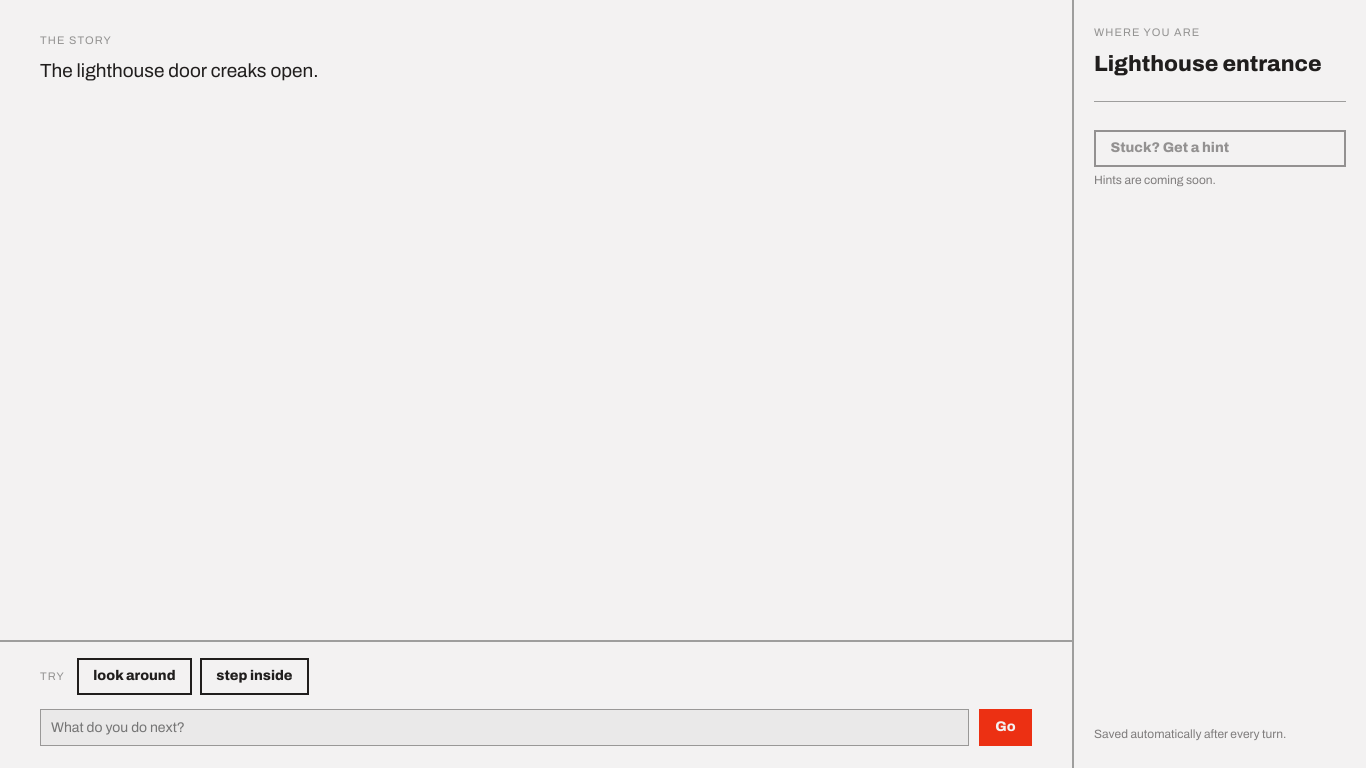
Test: PlayPage (008-core-gameplay-done) › shows an inline notice on a 429 without clearing the typed input
In the field labelled "What do you do next?": (504, 728) [40,709,969,746], type "look around"
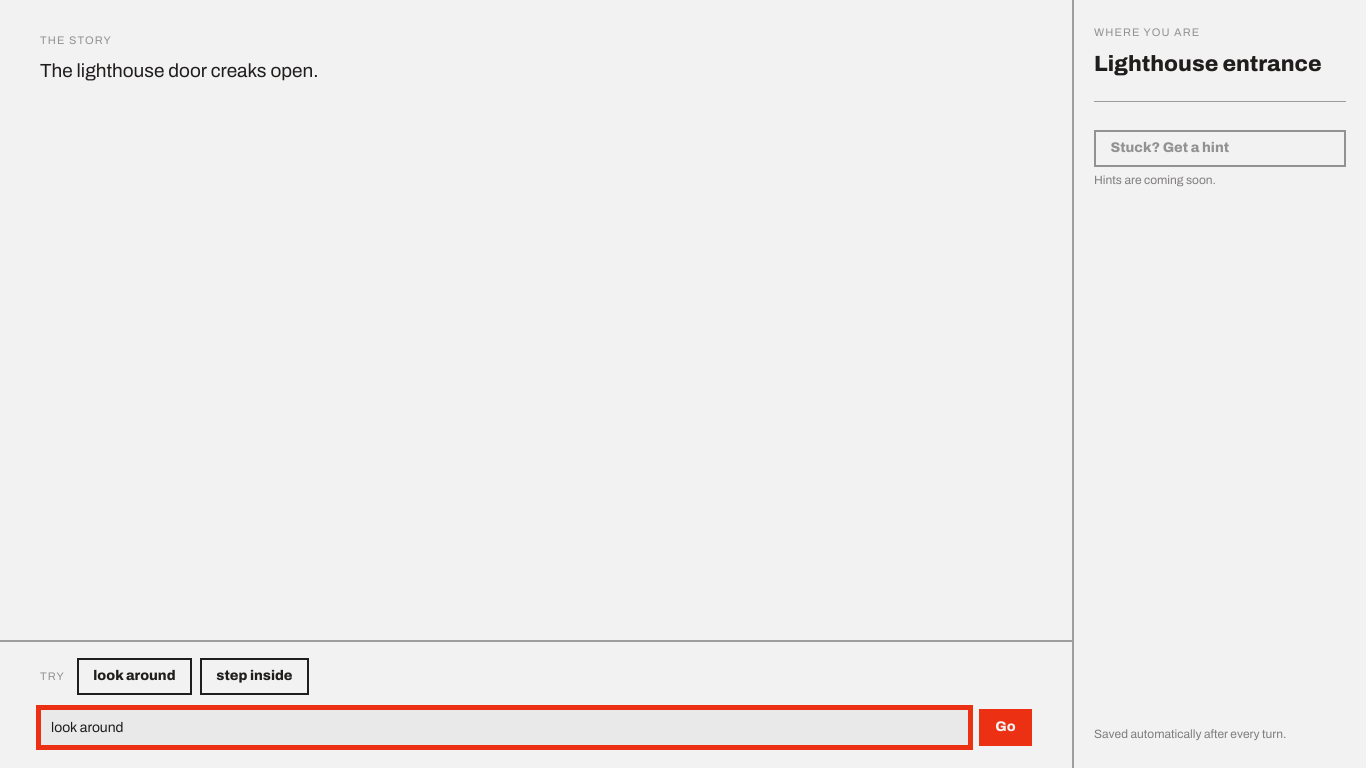
Click the button "Go": click(1005, 728) [979,709,1032,746]
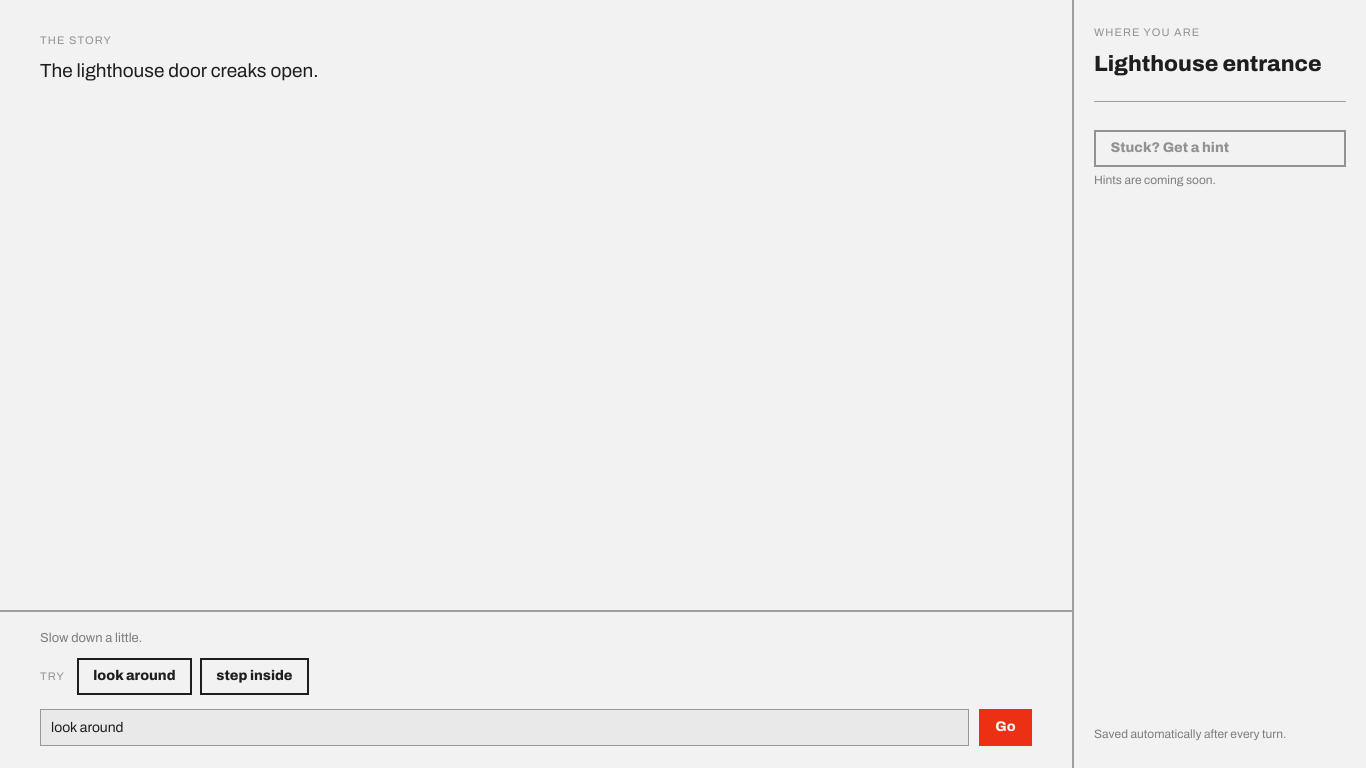
Expected: the text "Slow down a little." is shown, [40,631,142,645]
